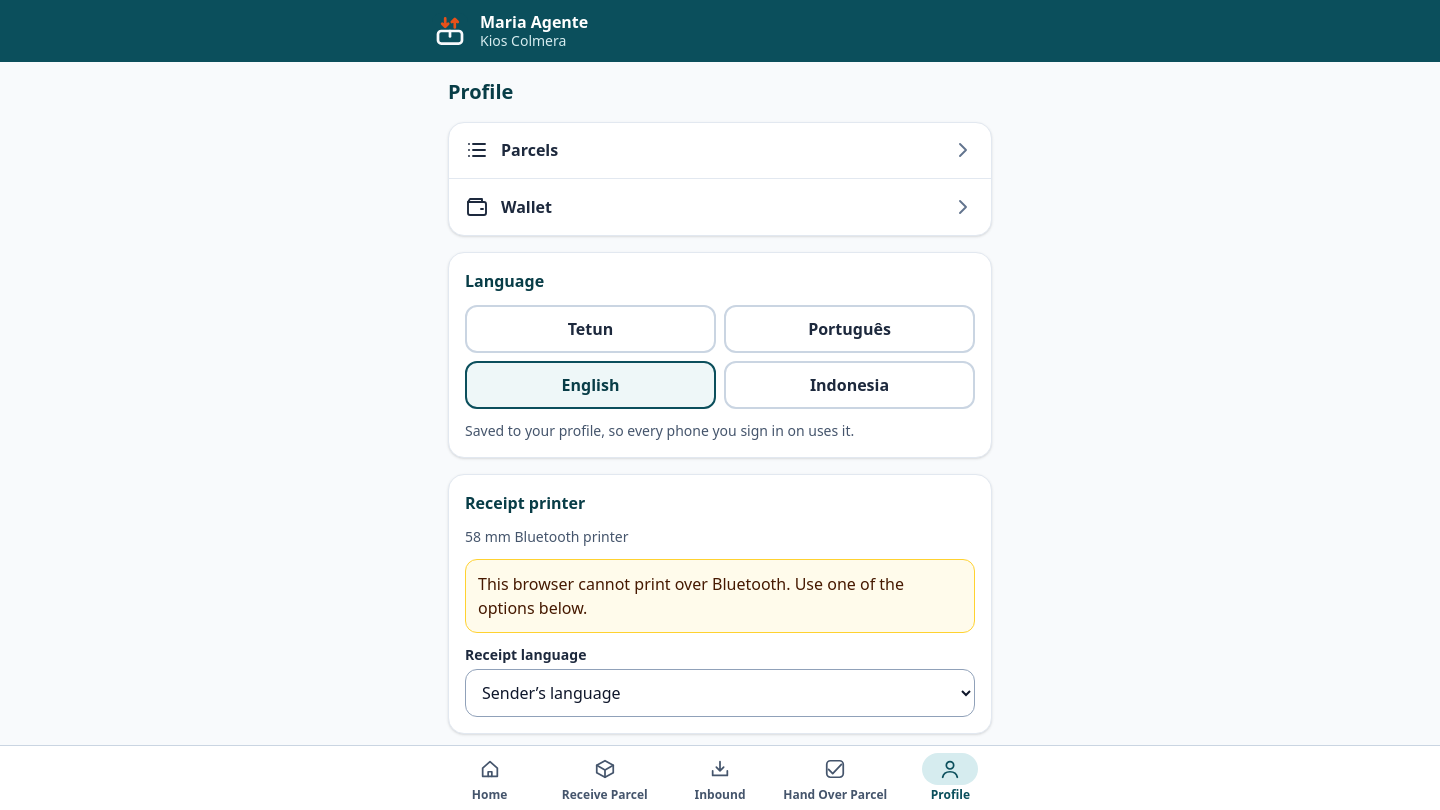
Scenario: language is synced to the profile › offline: the language still changes on this phone, with a notice that the profile could not be updated
The width and height of the screenshot is (1440, 810).
Click the radio button labelled "Indonesia": (850, 384) [724, 360, 975, 408]
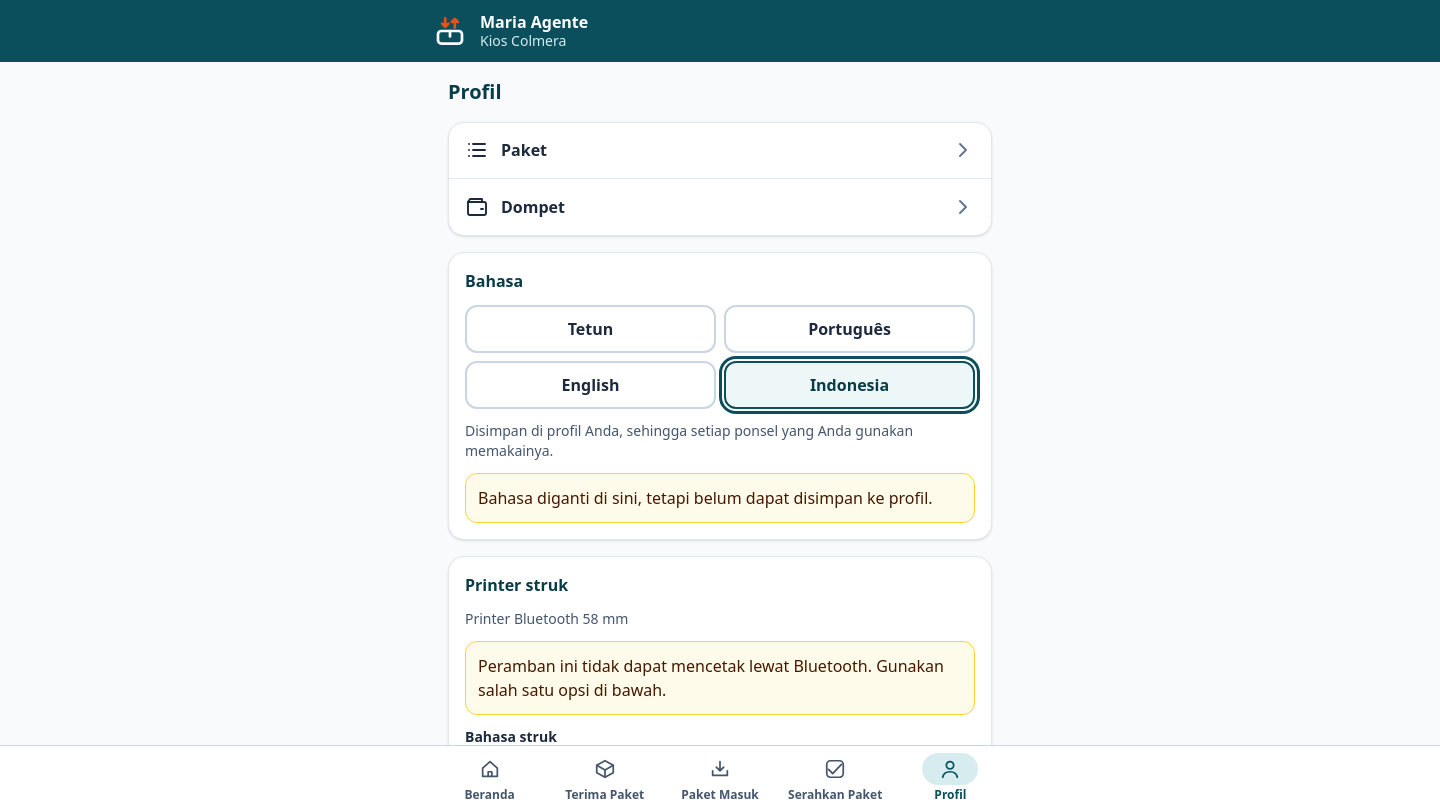
Check: the text "Bahasa diganti di sini, tetapi belum dapat disimpan ke profil." is shown, box [465, 472, 975, 522]
